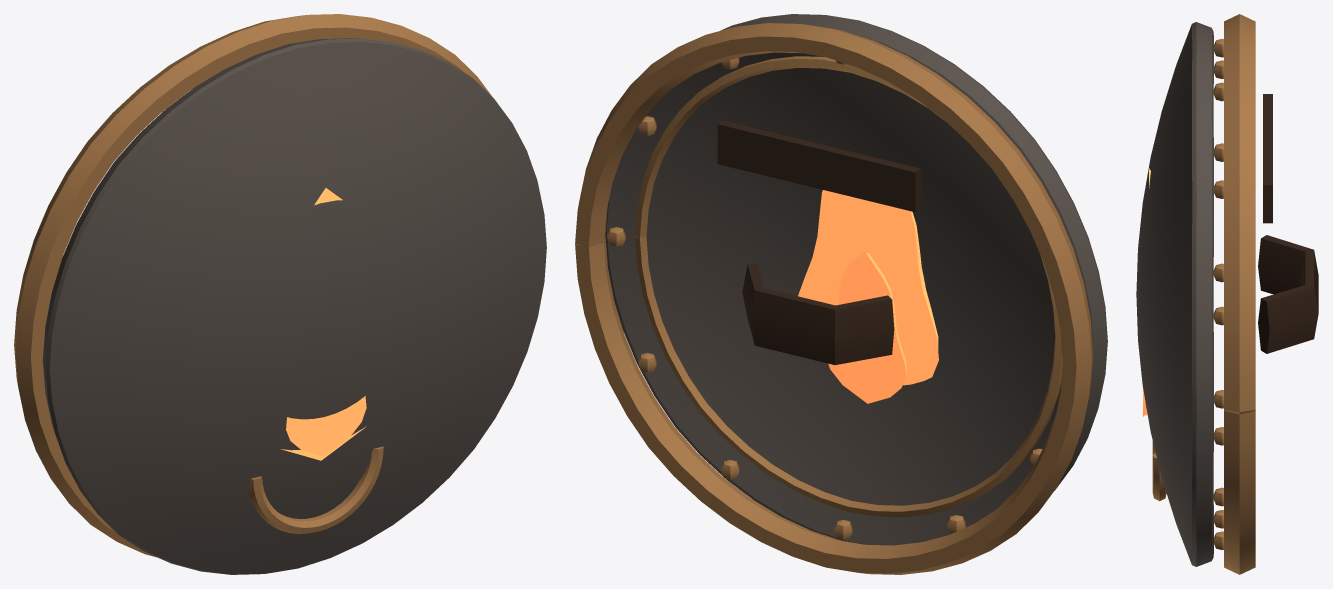
Rendered from boss_ashfall_pilgrim_sub_weapon.glb.
3 views of the same model, side by side, from view 1: azimuth 30°, elevation 25°; view 2: azimuth 150°, elevation 25°; view 3: azimuth 270°, elevation 25° (orthographic). The views are drawn at different scales.
Visible parts, largest first — view 1: boss_ashfall_pilgrim_sub_weapon; view 2: boss_ashfall_pilgrim_sub_weapon; view 3: boss_ashfall_pilgrim_sub_weapon.
Boxes of the visible parts, <box> form: boss_ashfall_pilgrim_sub_weapon: <box>14,14,546,574</box>; boss_ashfall_pilgrim_sub_weapon: <box>575,14,1107,574</box>; boss_ashfall_pilgrim_sub_weapon: <box>1136,14,1318,574</box>.
Size of the model in its own units: 0.6759 by 0.676 by 0.2187.
